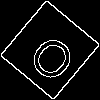O: (25, 25, 85, 86)
